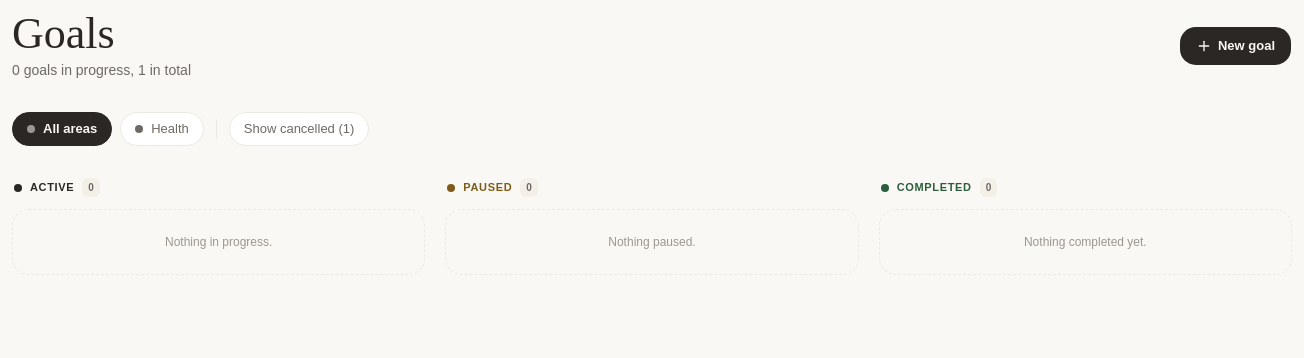
Test: GoalsPage › keeps cancelled goals off the board until they are asked for
Expected: the text "Learn guitar" is not shown
Expected: the text "0 goals in progress, 1 in total" is shown, x1=12 y1=60 x2=191 y2=80
Click the button "Show cancelled (1)".
click(299, 129)  # box x1=229 y1=112 x2=369 y2=146
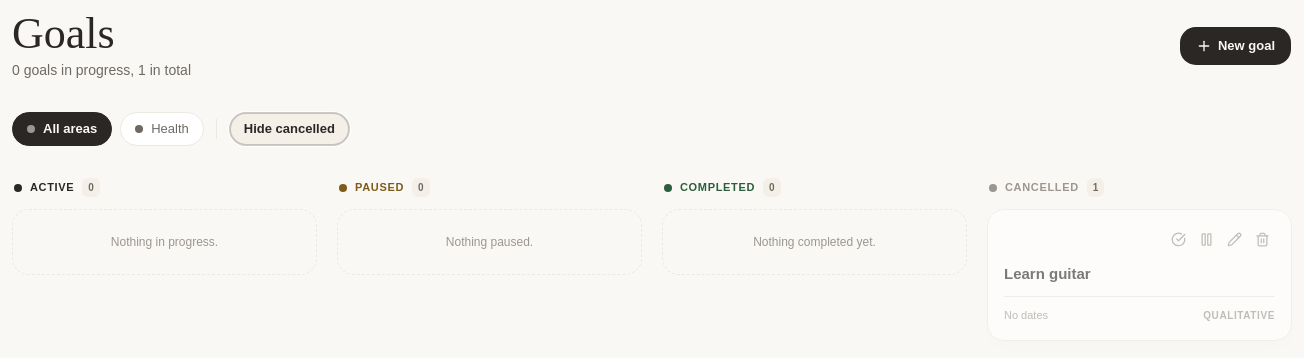
Result: the text "Learn guitar" is shown at x1=1004 y1=265 x2=1091 y2=282
